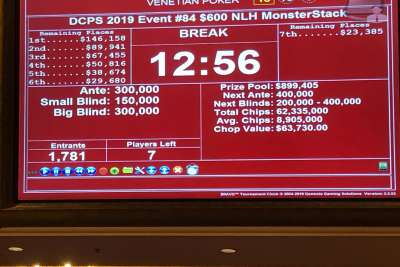PlayersLeft: (105, 138, 203, 162)
Remaining: (277, 22, 390, 81), (26, 28, 133, 87)
TournamentClock: (26, 14, 393, 166)
